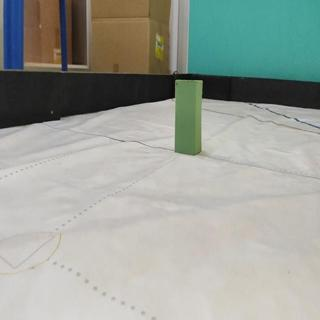greenbox: (174, 79, 204, 155)
